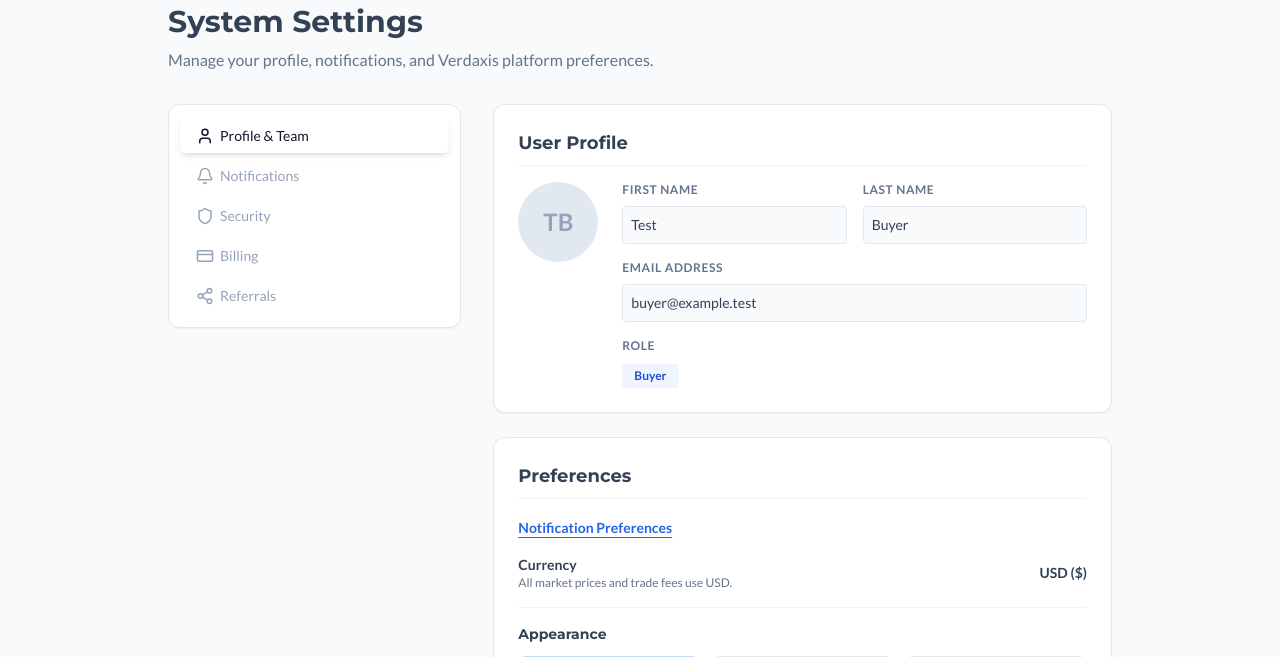
Test: billing fee display › does not invent a negotiated Enterprise rate when it is absent
Click the button "Billing" at (239, 256), box [180, 236, 449, 276]
(page scrolled)
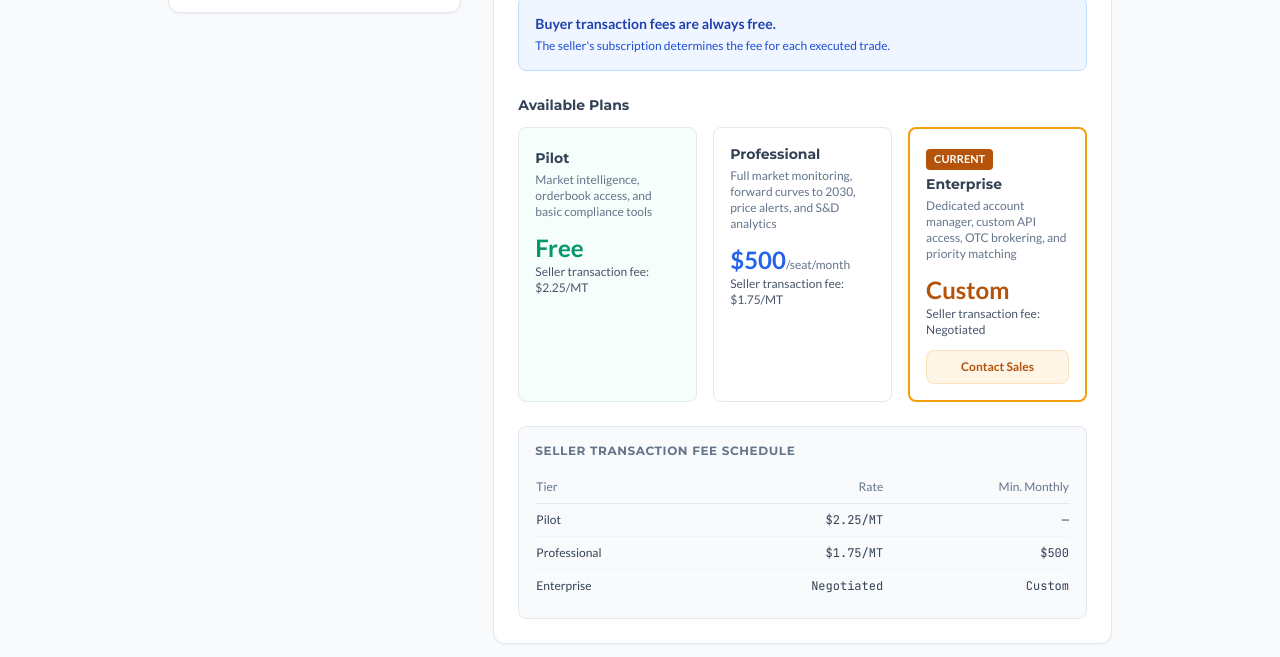
Expected: the text "Buyer transaction fees are always free." is shown, [535, 15, 776, 32]
Expected: the text "Negotiated" is shown, [696, 569, 899, 602]
